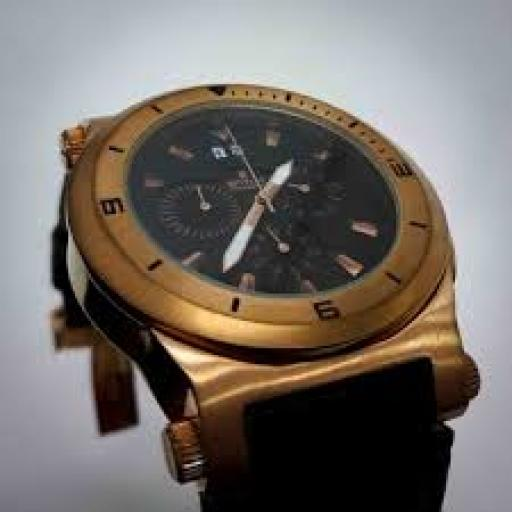KolSaati: (35, 46, 485, 507)
